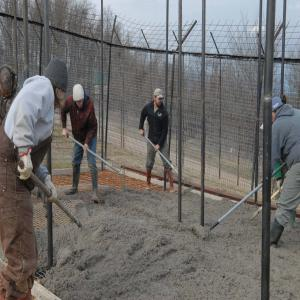blue: (272, 96, 286, 123)
none: (45, 58, 69, 108), (2, 66, 14, 98), (154, 89, 164, 108)
white: (74, 85, 86, 110)
